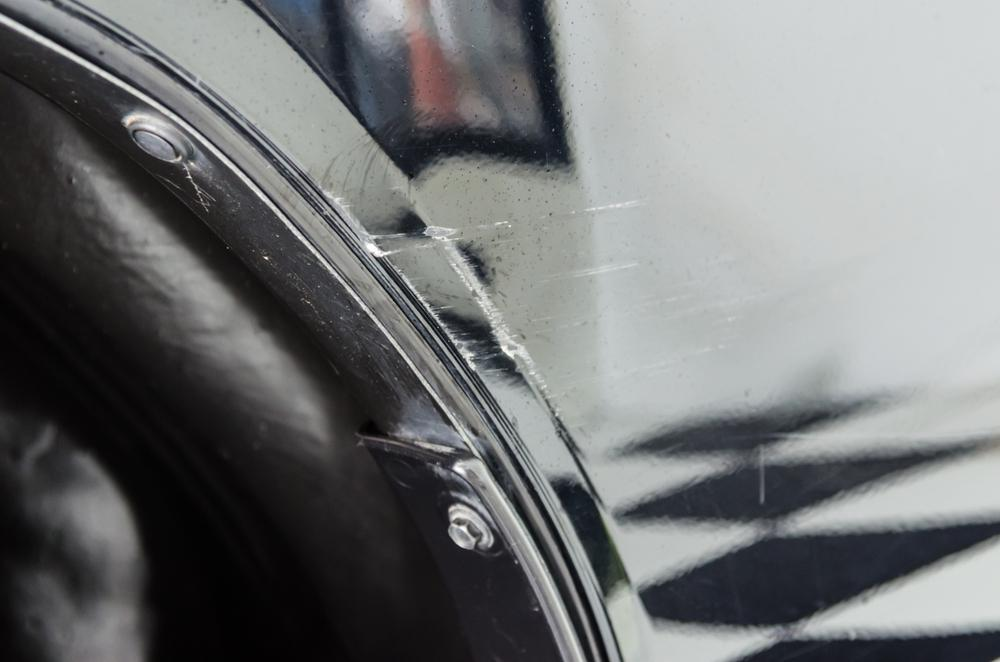scratch: (357, 193, 646, 399)
